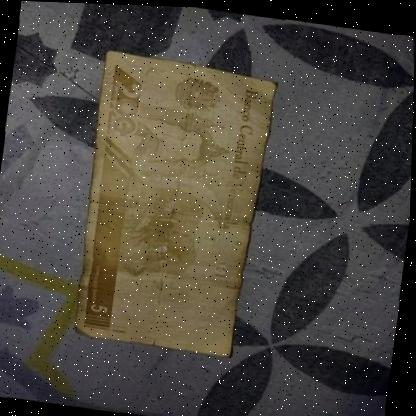five-back-vef: (69, 47, 279, 358)
